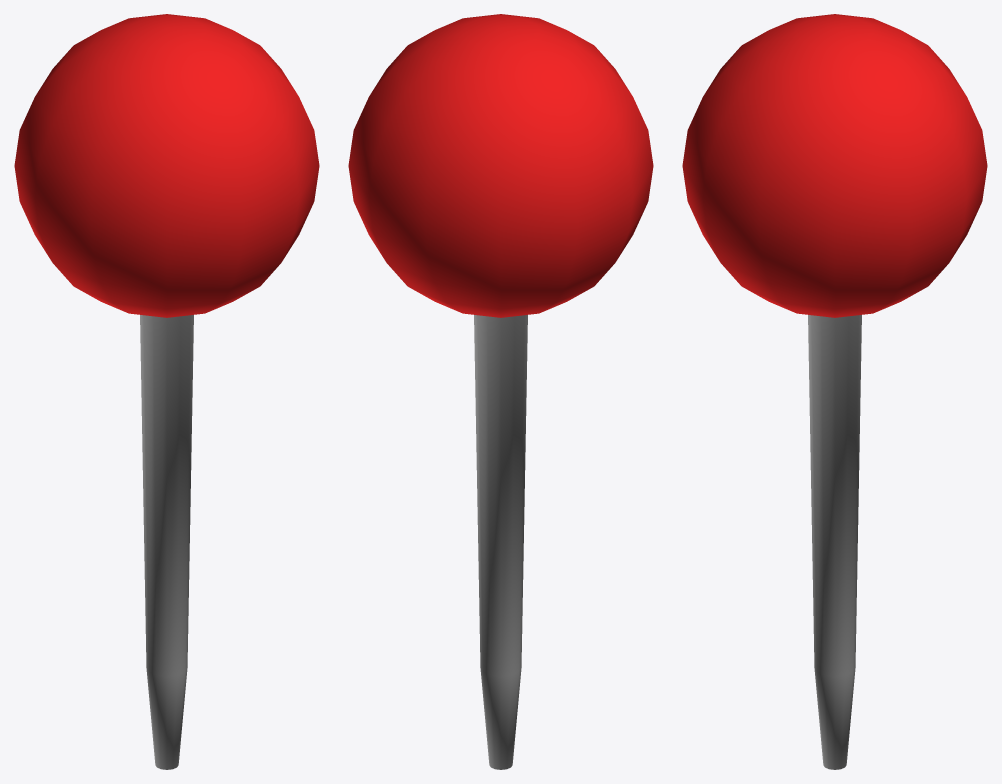
Rendered from pin.glb.
3 renders of one model, left to right at view 1: azimuth 30°, elevation 25°; view 2: azimuth 150°, elevation 25°; view 3: azimuth 270°, elevation 25°, orthographic.
Parts seen in each view (by area): view 1: Sphere; view 2: Sphere; view 3: Sphere.
Boxes of the visible parts, x1,y1,x2,y2 form: Sphere: [14, 14, 319, 769]; Sphere: [348, 14, 653, 769]; Sphere: [682, 14, 987, 769].
Size of the model in its own units: 0.7765 by 2.07 by 0.7765.
